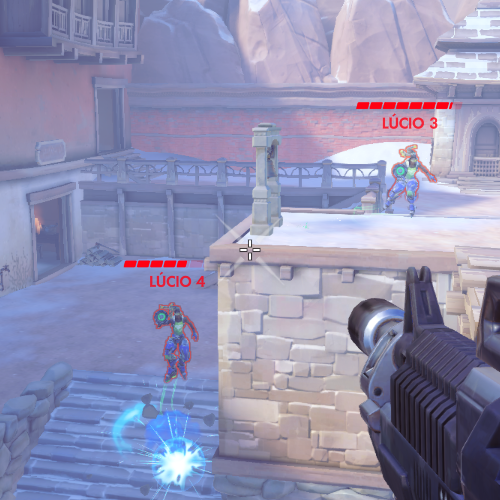hpbar: (355, 101, 463, 110), (123, 259, 205, 268)
